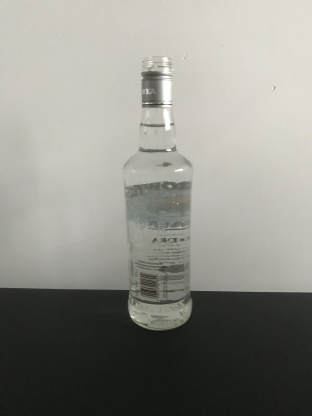nakretka: (139, 53, 175, 109)
